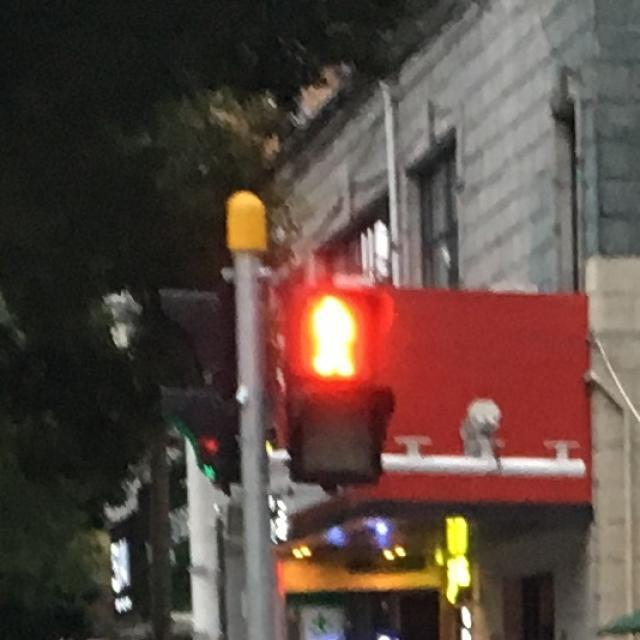red-crossing: (294, 295, 376, 384)
